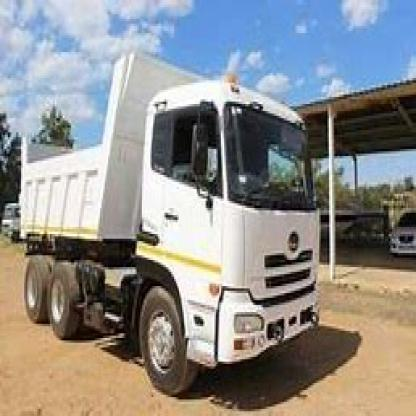dump_truck: (10, 40, 345, 390)
